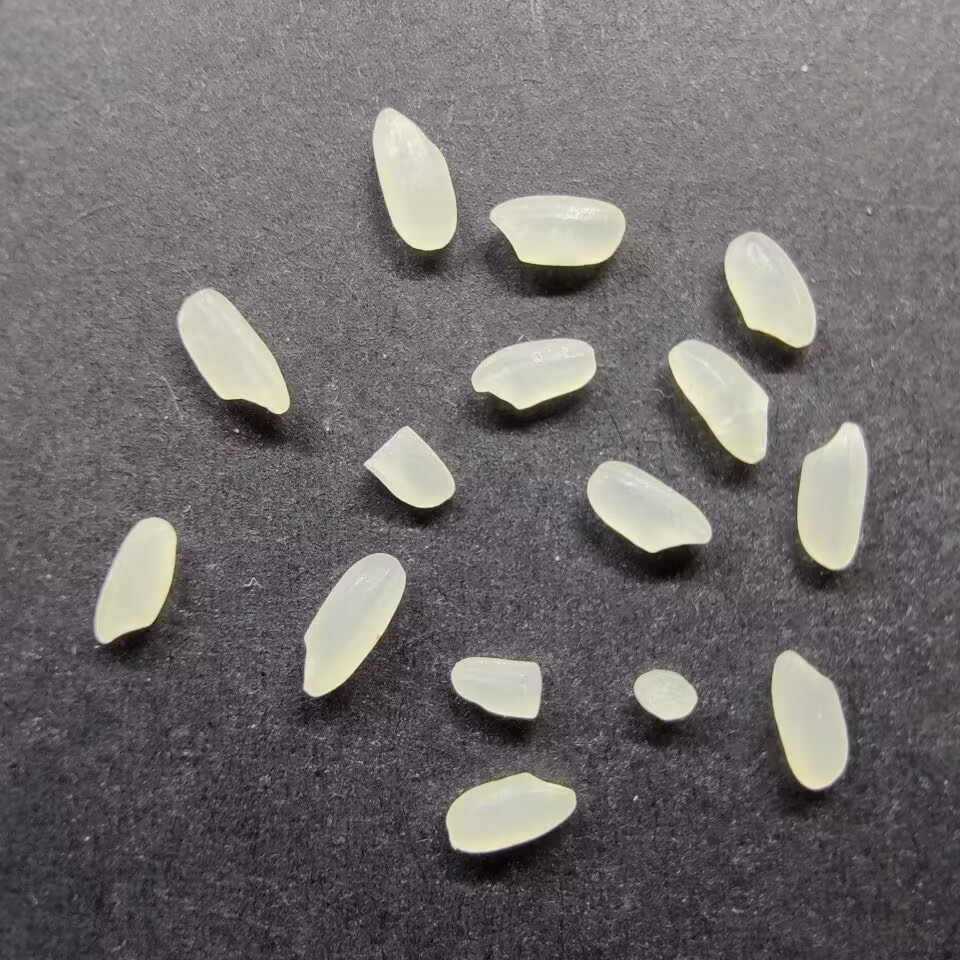broken: (359, 424, 456, 510), (449, 655, 544, 722), (631, 669, 700, 722)
rice: (298, 551, 406, 698), (175, 286, 291, 415), (667, 339, 771, 465), (371, 103, 458, 251), (586, 459, 713, 556), (770, 646, 849, 793), (444, 770, 578, 855), (723, 228, 817, 349), (796, 417, 869, 572), (91, 514, 177, 645), (488, 192, 627, 268), (469, 336, 598, 409)
